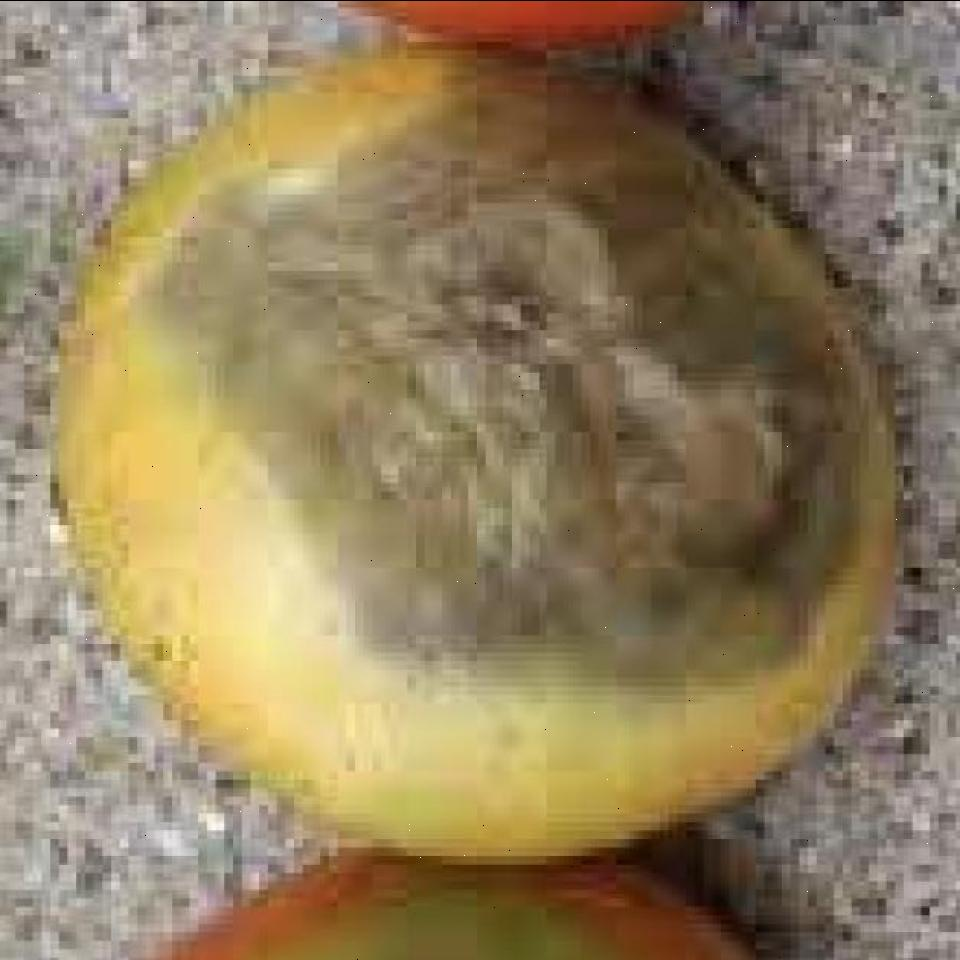Blossom_end_rot: (125, 83, 865, 723)
